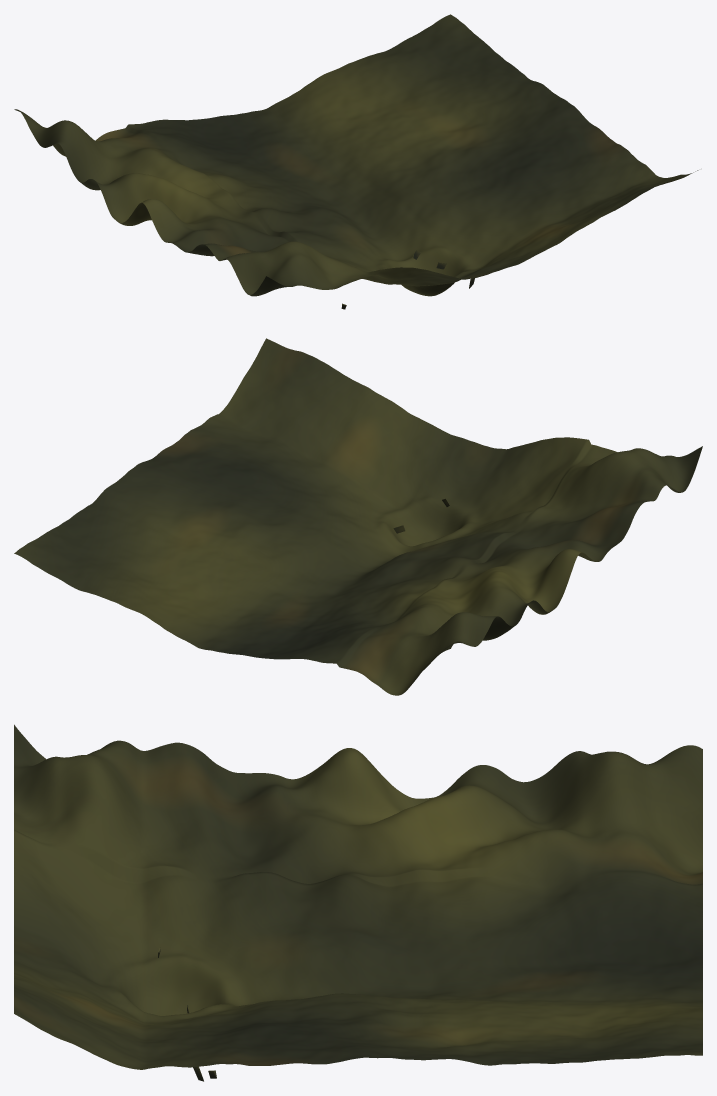
Rendered from planet_terrain_v2.glb.
The picture shows the model from 3 angles, top to bottom: view 1: azimuth 30°, elevation 25°; view 2: azimuth 150°, elevation 25°; view 3: azimuth 270°, elevation 25°; orthographic projection. The views are drawn at different scales.
Visible parts, largest first — view 1: TerrainMesh; view 2: TerrainMesh; view 3: TerrainMesh.
Boxes of the visible parts, bbox=[...] form: TerrainMesh: bbox=[14, 14, 698, 296]; TerrainMesh: bbox=[14, 338, 702, 695]; TerrainMesh: bbox=[14, 724, 702, 1069].
Bounding box in the file's own units: 230 × 65.17 × 230.
1 material, 1 textured.
